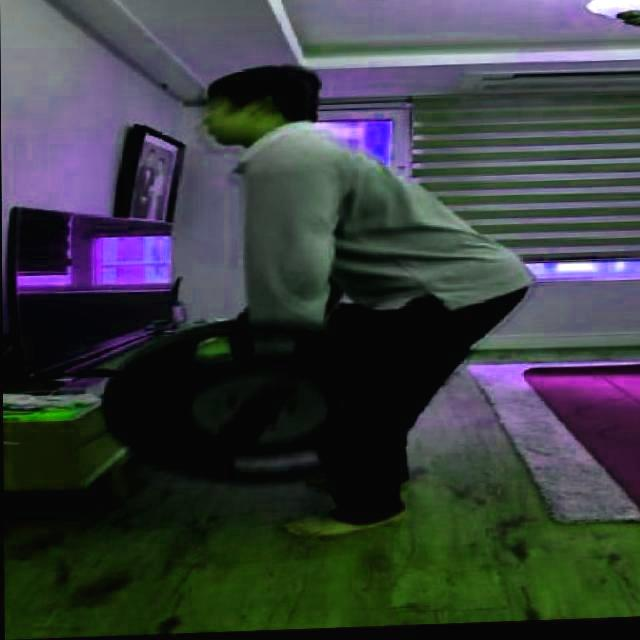barbell: (88, 312, 394, 500)
